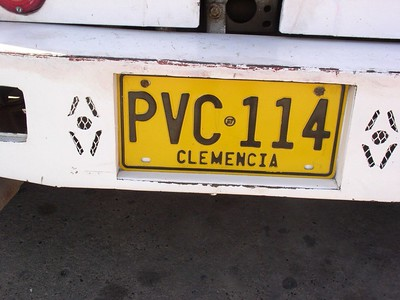placa_carro: (112, 68, 361, 198)
